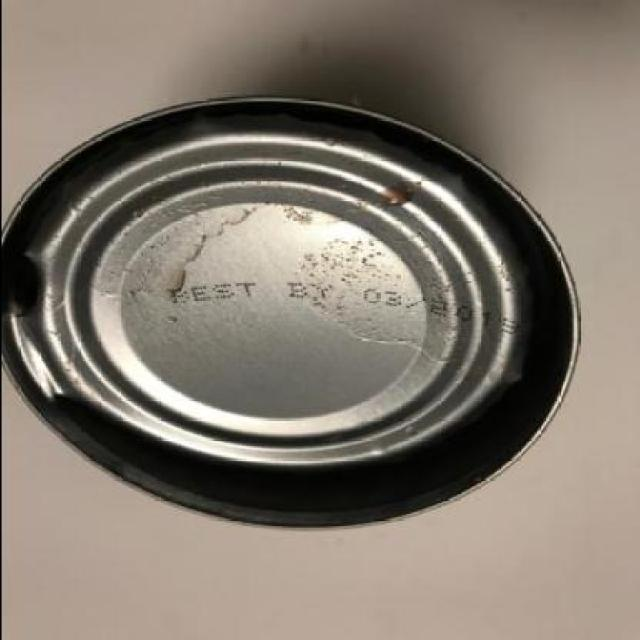METAL: (1, 96, 578, 536)
